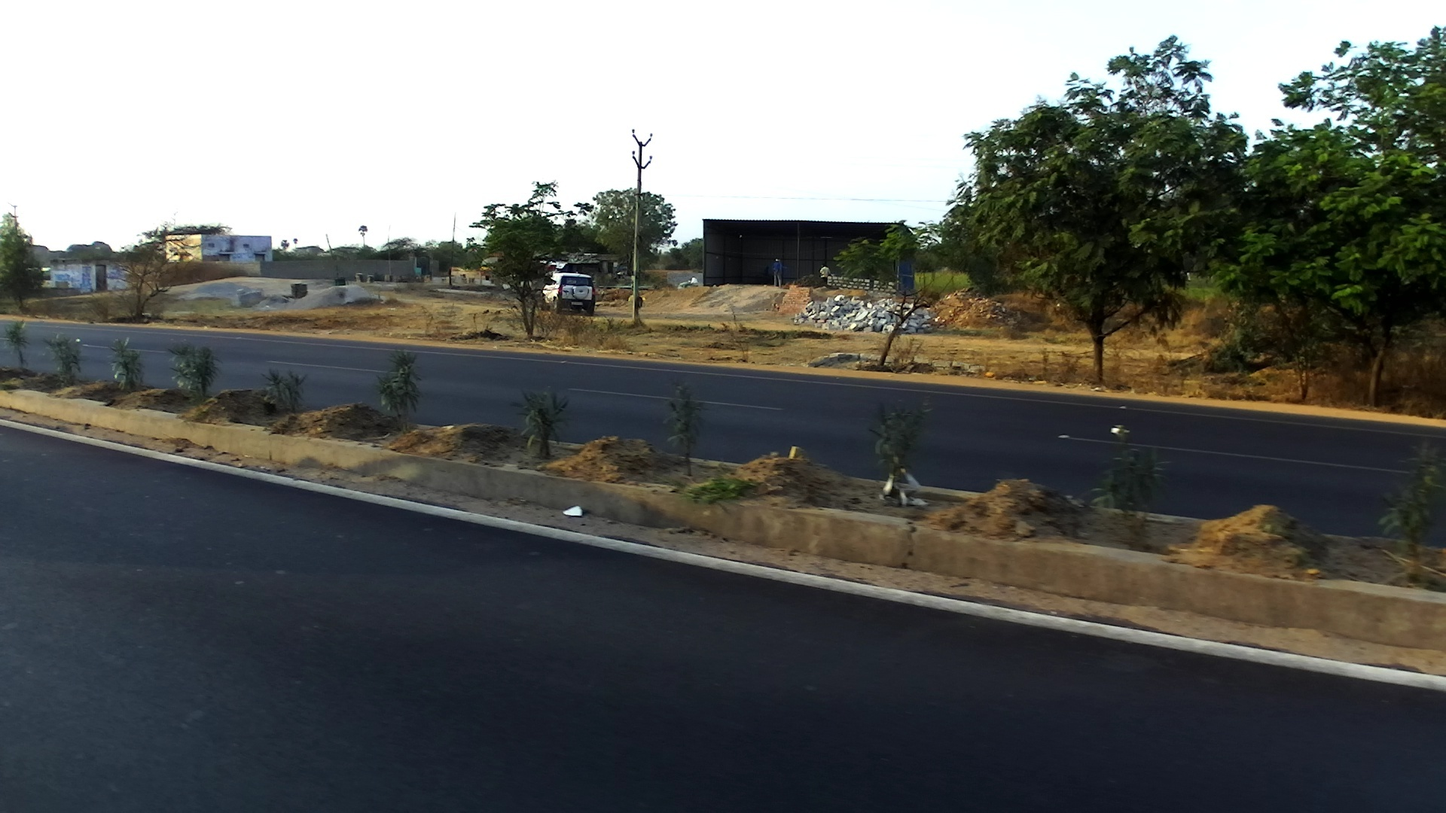car: (538, 273, 594, 318)
person: (770, 254, 785, 289), (816, 263, 834, 289)
